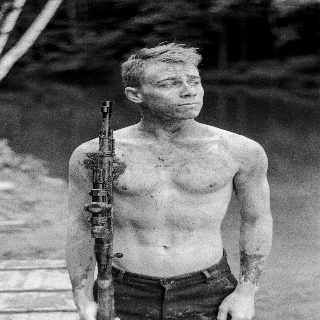rifle: (84, 100, 125, 320)
